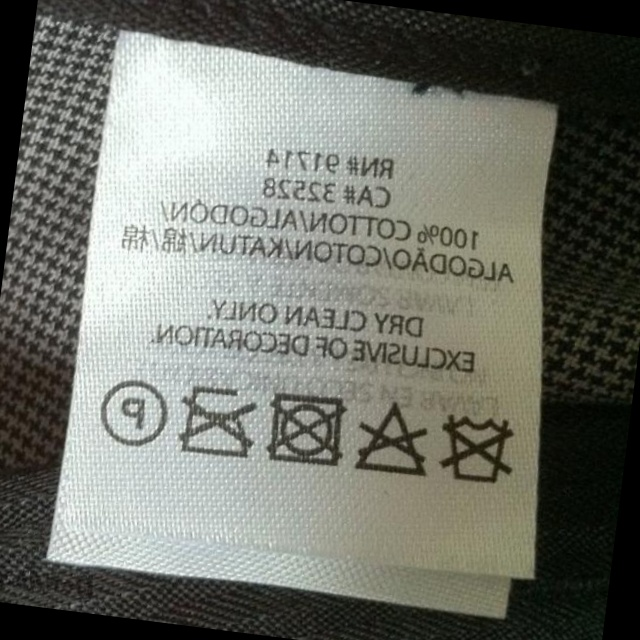DN_bleach: (354, 397, 434, 483)
DN_iron: (174, 377, 258, 467)
DN_tumble_dry: (263, 382, 352, 470)
DN_wash: (434, 405, 521, 492)
dry_clean_any_solvent_except_trichloroethylene: (94, 371, 172, 452)
